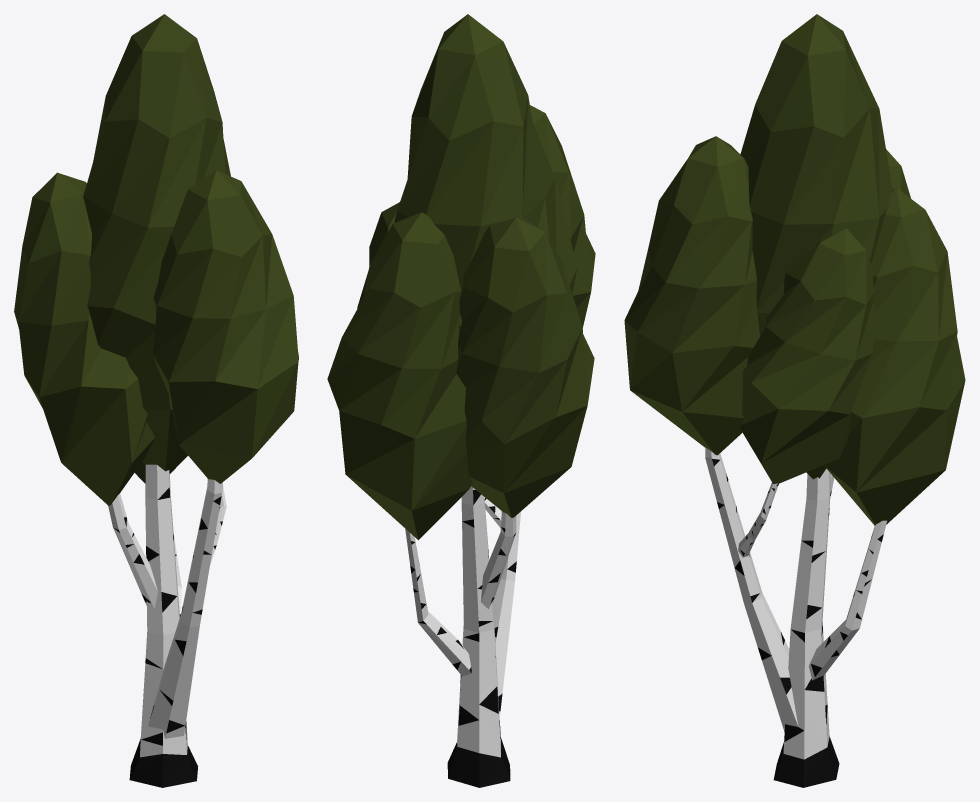
File: Birch_tr_3.FBX
3 renders of one model, left to right at view 1: azimuth 30°, elevation 25°; view 2: azimuth 150°, elevation 25°; view 3: azimuth 270°, elevation 25°, orthographic.
Parts seen in each view (by area): view 1: Object278; view 2: Object278; view 3: Object278.
Boxes of the visible parts, x1,y1,x2,y2 form: Object278: [14, 14, 298, 787]; Object278: [327, 14, 595, 787]; Object278: [624, 14, 965, 787].
Size of the model in its own units: 28.77 by 91.13 by 37.03.
